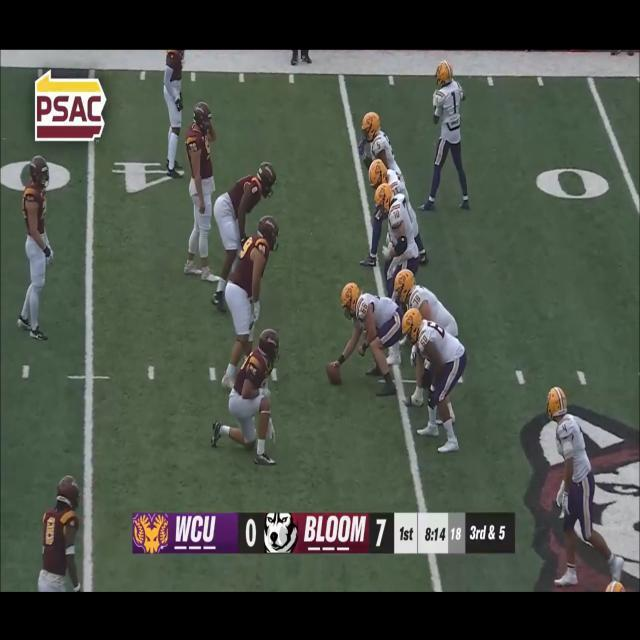football: (327, 359, 345, 387)
